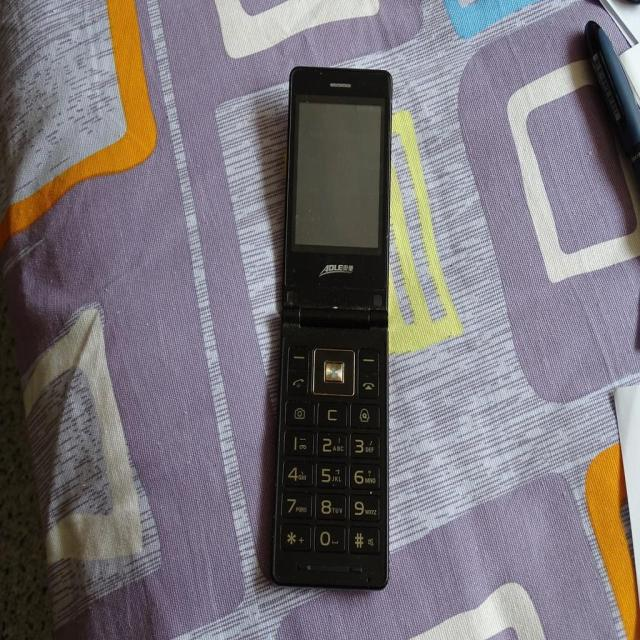Phone: (264, 60, 404, 600)
